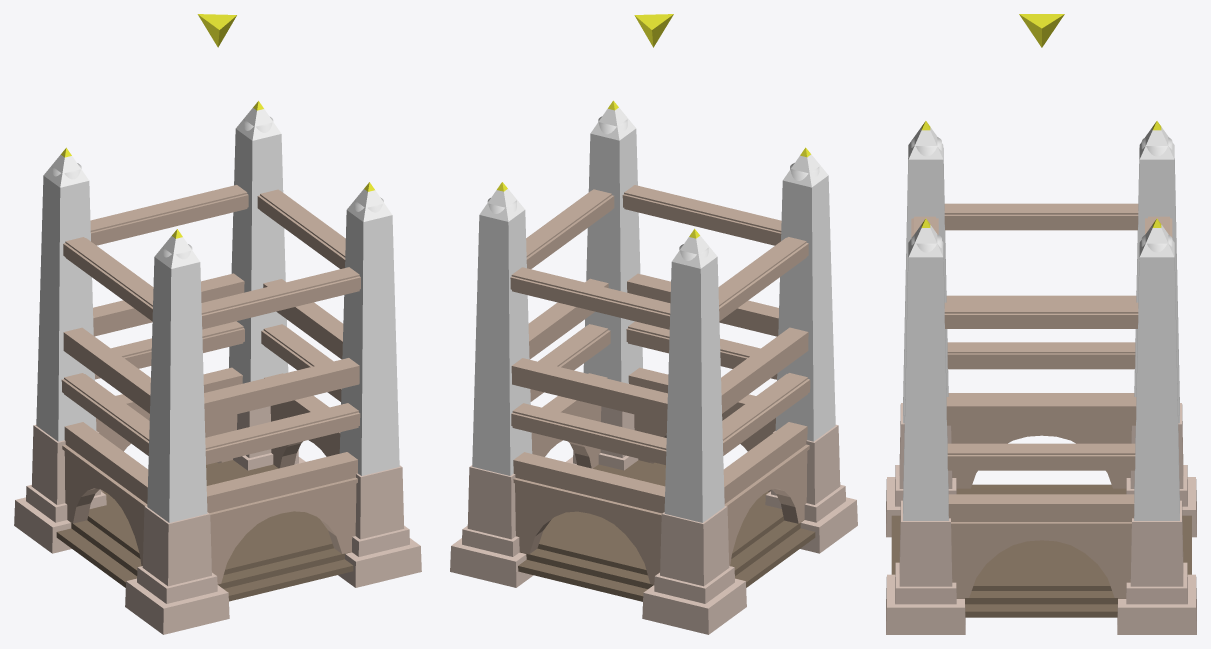
Rendered from tower.fbx.
The picture shows the model from 3 angles, left to right: view 1: azimuth 30°, elevation 25°; view 2: azimuth 150°, elevation 25°; view 3: azimuth 270°, elevation 25°; orthographic projection. The views are drawn at different scales.
Visible parts, largest first — view 1: obelisk1, TOWER_FLOOR3, TOWER_FLOOR2, TOWER_FLOOR0, archs, POLES, EndTriedra; view 2: obelisk1, TOWER_FLOOR3, TOWER_FLOOR2, TOWER_FLOOR0, archs, POLES, EndTriedra; view 3: obelisk1, TOWER_FLOOR3, TOWER_FLOOR2, TOWER_FLOOR0, archs, POLES, EndTriedra.
Boxes of the visible parts, <box> form: obelisk1: <box>14,101,421,634</box>; TOWER_FLOOR3: <box>63,185,360,421</box>; TOWER_FLOOR2: <box>61,321,360,513</box>; TOWER_FLOOR0: <box>56,460,353,601</box>; archs: <box>62,405,357,584</box>; POLES: <box>52,117,383,259</box>; EndTriedra: <box>197,14,236,47</box>; obelisk1: <box>450,100,857,634</box>; TOWER_FLOOR3: <box>510,185,808,422</box>; TOWER_FLOOR2: <box>511,321,810,513</box>; TOWER_FLOOR0: <box>518,460,815,601</box>; archs: <box>513,405,809,584</box>; POLES: <box>487,116,819,260</box>; EndTriedra: <box>634,14,673,47</box>; obelisk1: <box>886,121,1196,634</box>; TOWER_FLOOR3: <box>911,203,1172,425</box>; TOWER_FLOOR2: <box>947,342,1135,521</box>; TOWER_FLOOR0: <box>891,484,1191,617</box>; archs: <box>951,425,1131,597</box>; POLES: <box>911,137,1172,252</box>; EndTriedra: <box>1019,14,1064,47</box>.
Bounding box in the file's own units: 405 × 793 × 405.
